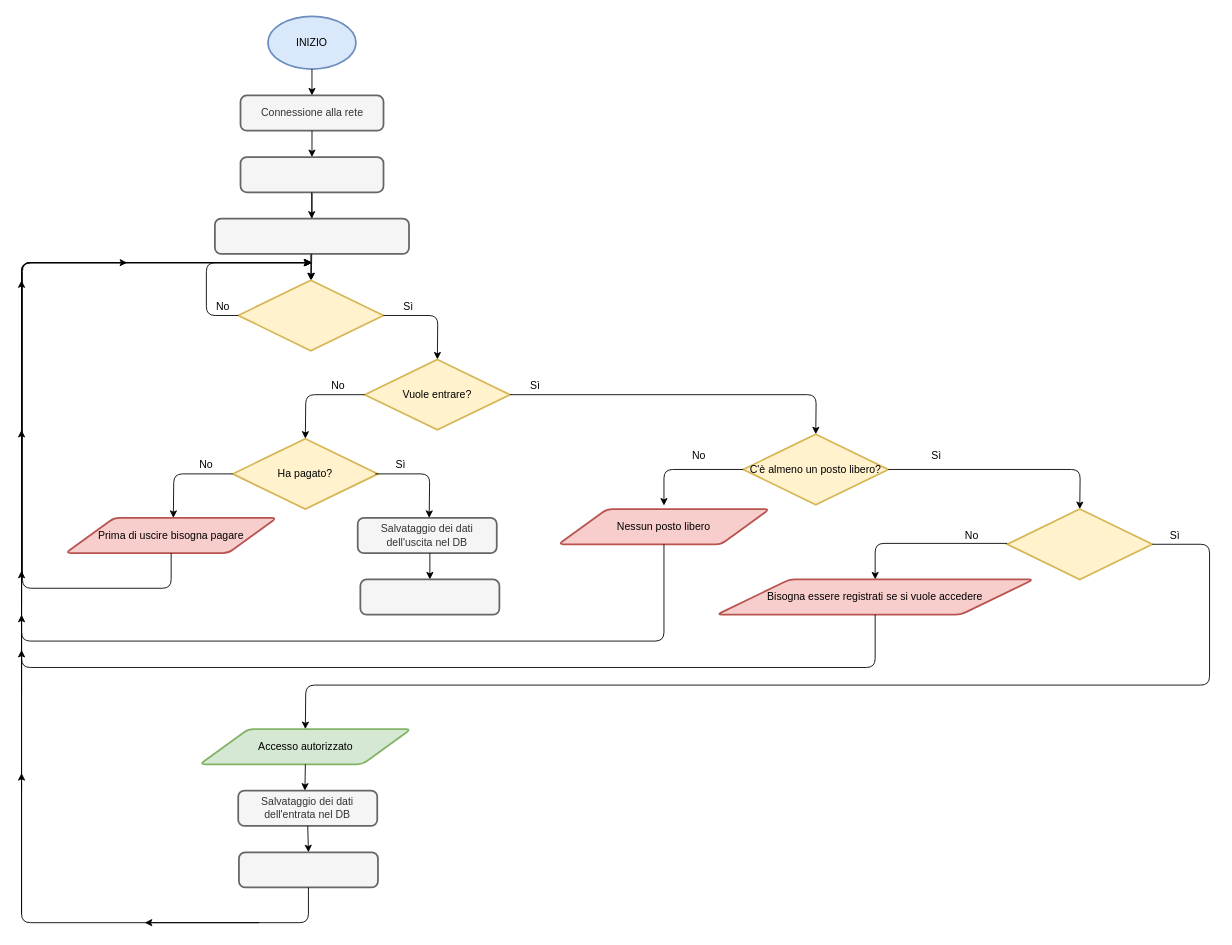
The diagram is 1232 pixels wide and 945 high, and some of its shapes have lost their labels. The shapes that lost their labels are listed below. From the top down, each one's centre as x and y in pixels, then its label:
At [311,174]: "Connessione al database".
At [311,235]: "Salvataggio lista di utenti registrati".
At [310,315]: "Viene rilevato il badge di un veicolo?".
At [1079,544]: "E' un utente registrato?".
At [429,596]: "Incremento dei posti disponibili".
At [308,869]: "Decremento dei posti disponibili".
